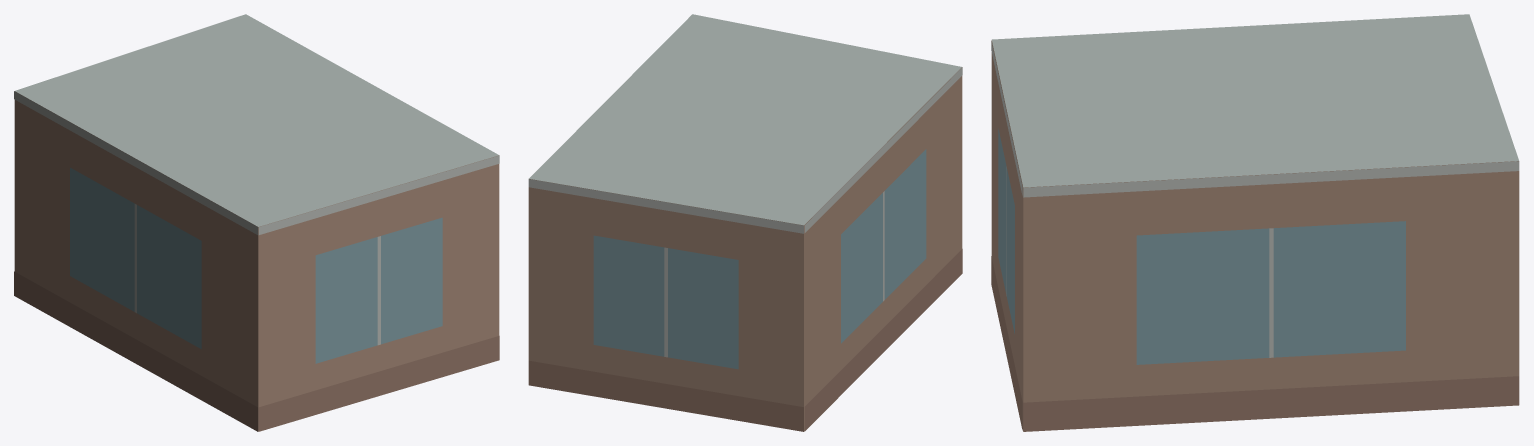
The model's file is survey-upis-32805906.glb.
3 renders of one model, left to right at view 1: azimuth 30°, elevation 25°; view 2: azimuth 150°, elevation 25°; view 3: azimuth 270°, elevation 25°, orthographic. The views are drawn at different scales.
Visible parts, largest first — view 1: survey-upis-32805906.tmp; view 2: survey-upis-32805906.tmp; view 3: survey-upis-32805906.tmp.
Part boxes in pixels (x1,y1,x2,y2): survey-upis-32805906.tmp: (14, 14, 499, 431); survey-upis-32805906.tmp: (528, 14, 962, 431); survey-upis-32805906.tmp: (991, 14, 1519, 431).
Bounding box in the file's own units: 4.65 × 3.05 × 5.98.
